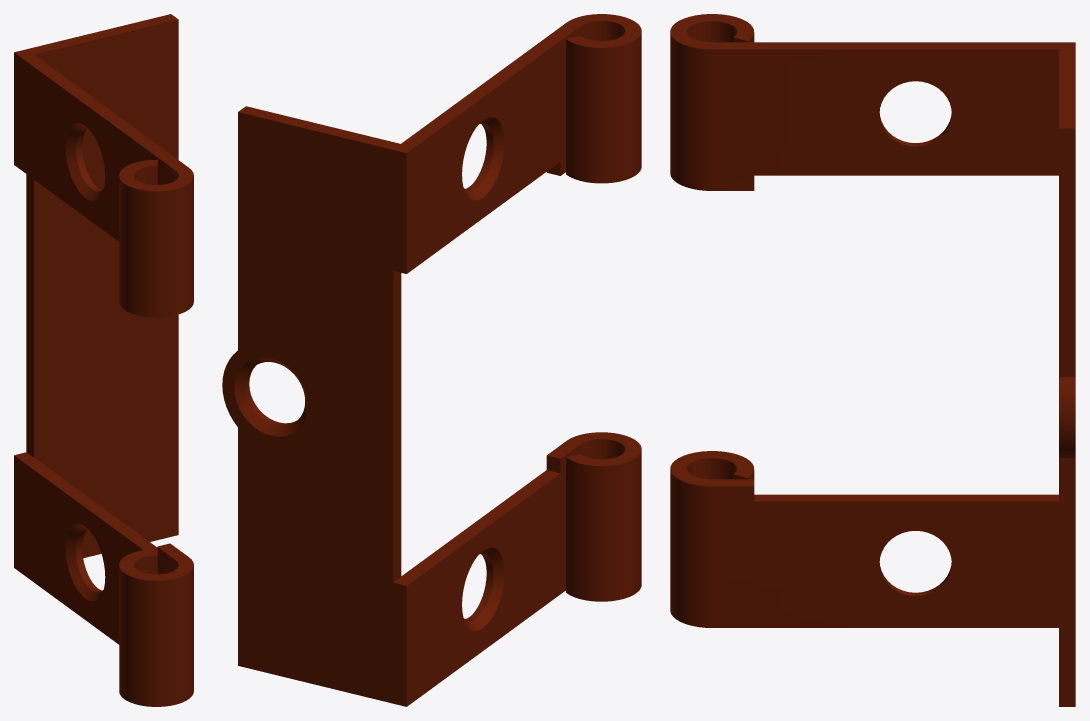
Rendered from original-25.obj.
3 views of the same model, side by side, from view 1: azimuth 30°, elevation 25°; view 2: azimuth 150°, elevation 25°; view 3: azimuth 270°, elevation 25° (orthographic). The views are drawn at different scales.
Visible parts, largest first — view 1: Union1/mesh39/mesh39-geometry#mesh39-geometry; view 2: Union1/mesh39/mesh39-geometry#mesh39-geometry; view 3: Union1/mesh39/mesh39-geometry#mesh39-geometry.
Boxes of the visible parts, bbox=[...] form: Union1/mesh39/mesh39-geometry#mesh39-geometry: bbox=[14, 14, 193, 706]; Union1/mesh39/mesh39-geometry#mesh39-geometry: bbox=[222, 14, 641, 706]; Union1/mesh39/mesh39-geometry#mesh39-geometry: bbox=[670, 14, 1075, 706].
Size of the model in its own units: 0.0226 by 0.0497 by 0.0316.
